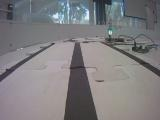tl_green: (108, 18, 114, 36)
